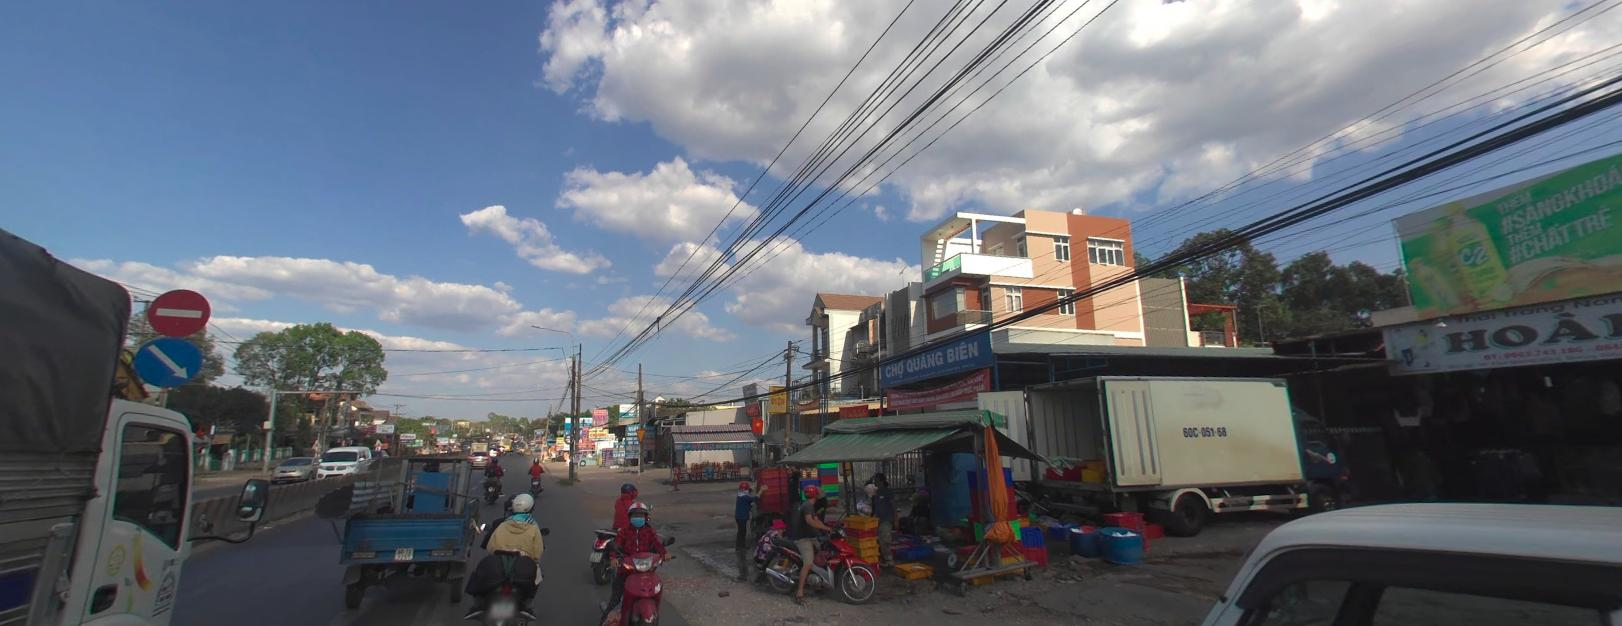Cam nguoc chieu: (148, 287, 211, 335)
Hieu lenh: (134, 337, 201, 386)
Nguy hiem: (635, 428, 645, 442)
